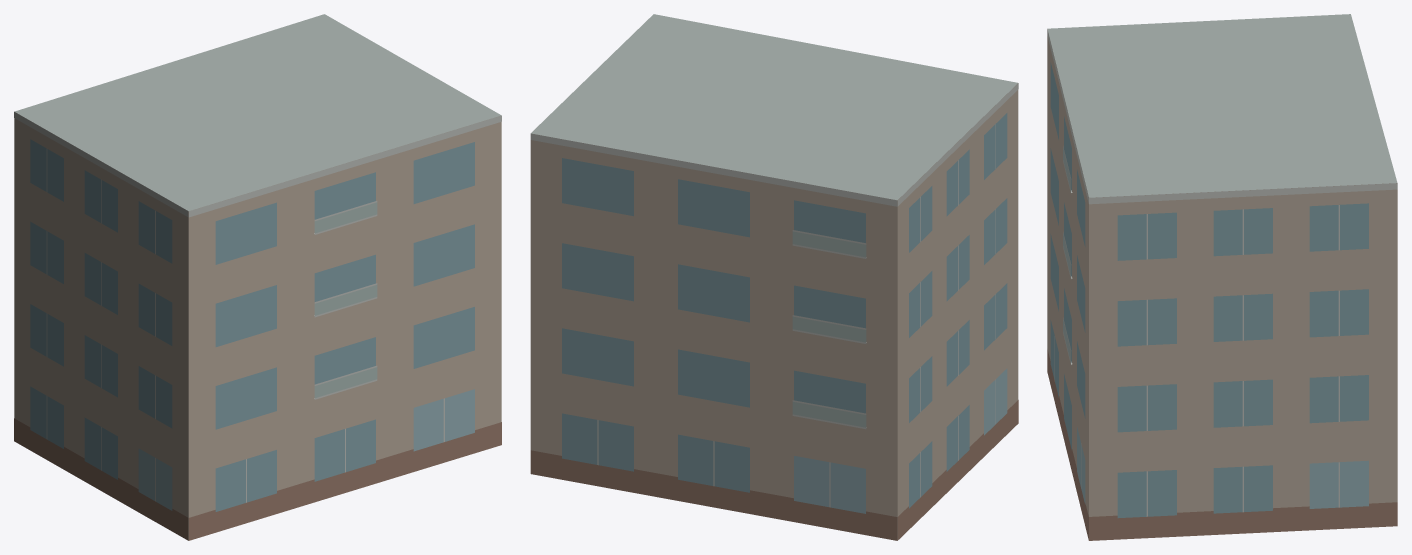
The model's file is survey-upis-32653062.glb.
3 renders of one model, left to right at view 1: azimuth 30°, elevation 25°; view 2: azimuth 150°, elevation 25°; view 3: azimuth 270°, elevation 25°, orthographic. The views are drawn at different scales.
Parts seen in each view (by area): view 1: survey-upis-32653062.tmp; view 2: survey-upis-32653062.tmp; view 3: survey-upis-32653062.tmp.
Boxes of the visible parts, left/top/right/bottom form: survey-upis-32653062.tmp: left=14, top=14, right=501, bottom=540; survey-upis-32653062.tmp: left=530, top=14, right=1018, bottom=540; survey-upis-32653062.tmp: left=1047, top=14, right=1397, bottom=540.
Bounding box in the file's own units: 14.71 × 12.8 × 11.85.
